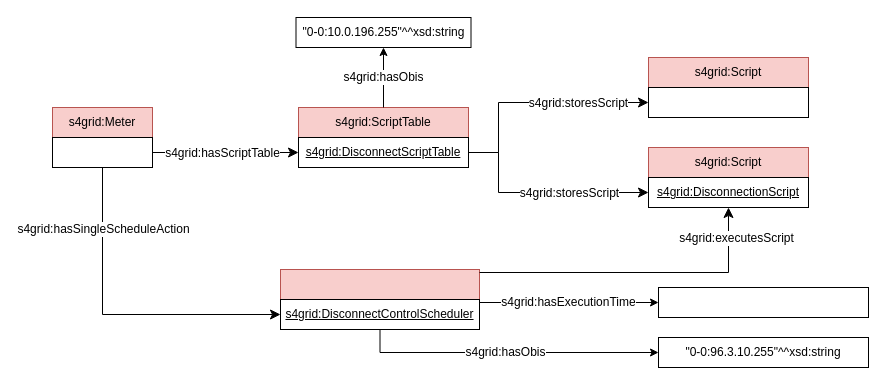
This 886x385 diagram has some shape labels left out. The shapes that lost their labels are listed below. From the top down, each one's centre as x and y in pixels, then its label:
(x=728, y=102): s4grid:ConnectionScript
(x=102, y=152): s4grid:Meter1234
(x=380, y=284): s4grid:SingleScheduleAction
(x=763, y=302): "2023-10-25T09:00:00"^^xsd:dateTime
